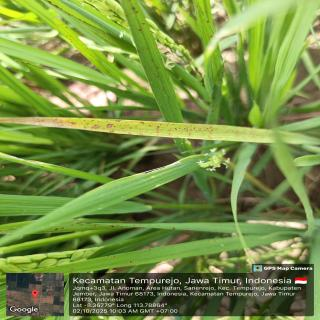bercak-Cokelat: (58, 117, 224, 141)
